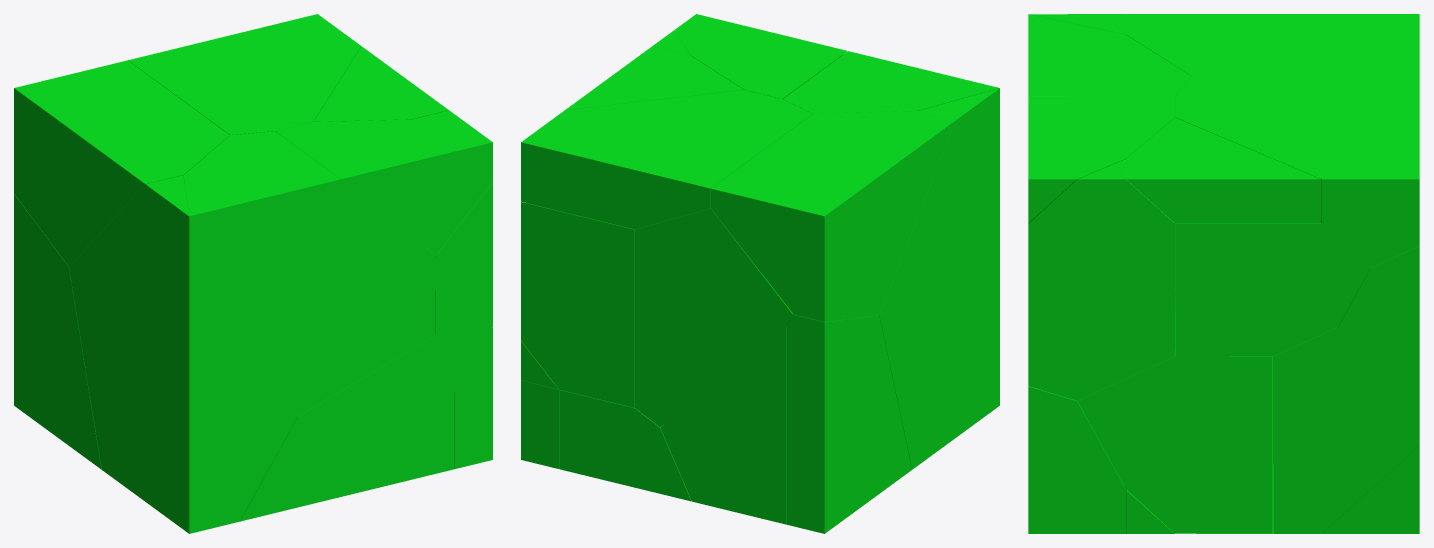
File: player_des.fbx
3 views of the same model, side by side, from view 1: azimuth 30°, elevation 25°; view 2: azimuth 150°, elevation 25°; view 3: azimuth 270°, elevation 25° (orthographic). The views are drawn at different scales.
Parts seen in each view (by area): view 1: Player_cell.010, Player_cell.004, Player_cell.011, Player_cell.003, Player_cell, Player_cell.012, Player_cell.001, Player_cell.013, Player_cell.009, Player_cell.015; view 2: Player_cell.011, Player_cell.010, Player_cell, Player_cell.006, Player_cell.001, Player_cell.016, Player_cell.005, Player_cell.007, Player_cell.004, Player_cell.012, Player_cell.009, Player_cell.018 (+1 smaller); view 3: Player_cell.013, Player_cell, Player_cell.019, Player_cell.014, Player_cell.002, Player_cell.011, Player_cell.009, Player_cell.015, Player_cell.012, Player_cell.004, Player_cell.016, Player_cell.018 (+2 smaller).
Part boxes in pixels (x1,y1,x2,y2): Player_cell.010: [69, 175, 297, 533]; Player_cell.004: [183, 131, 435, 416]; Player_cell.011: [14, 60, 229, 266]; Player_cell.003: [240, 334, 454, 521]; Player_cell: [128, 14, 361, 134]; Player_cell.012: [276, 119, 492, 254]; Player_cell.001: [14, 194, 101, 469]; Player_cell.013: [412, 110, 492, 336]; Player_cell.009: [314, 46, 448, 121]; Player_cell.015: [446, 327, 492, 468]; Player_cell.011: [711, 111, 955, 321]; Player_cell.010: [879, 88, 999, 469]; Player_cell: [521, 90, 812, 229]; Player_cell.006: [635, 208, 793, 427]; Player_cell.001: [787, 314, 911, 533]; Player_cell.016: [521, 202, 635, 407]; Player_cell.005: [660, 326, 786, 524]; Player_cell.007: [559, 390, 691, 501]; Player_cell.004: [783, 51, 999, 113]; Player_cell.012: [675, 14, 847, 99]; Player_cell.009: [565, 46, 743, 110]; Player_cell.018: [521, 381, 559, 468]; Player_cell.013: [1028, 159, 1174, 400]; Player_cell: [1175, 76, 1419, 267]; Player_cell.019: [1078, 295, 1272, 533]; Player_cell.014: [1175, 223, 1369, 356]; Player_cell.002: [1273, 327, 1419, 533]; Player_cell.011: [1126, 14, 1419, 75]; Player_cell.009: [1126, 117, 1321, 223]; Player_cell.015: [1028, 386, 1125, 533]; Player_cell.012: [1028, 96, 1174, 223]; Player_cell.004: [1028, 14, 1191, 294]; Player_cell.016: [1338, 246, 1419, 400]; Player_cell.018: [1322, 445, 1419, 533].
Size of the model in its own units: 200 by 200 by 200.
